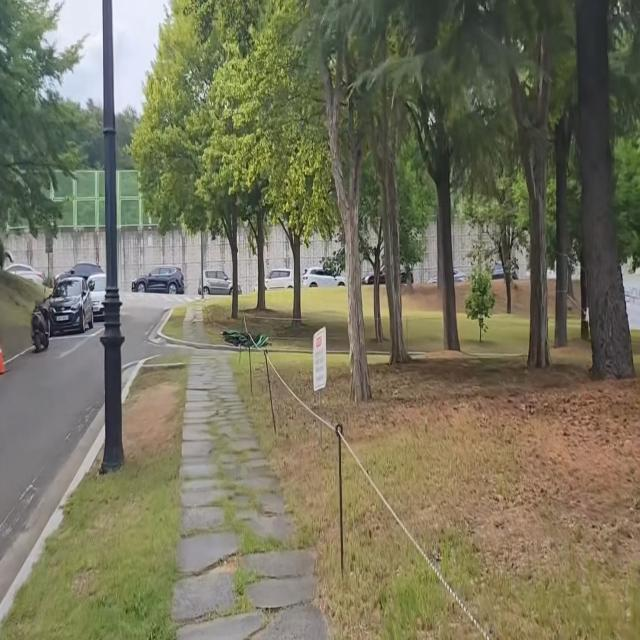obstacle: (102, 0, 127, 470), (30, 267, 105, 355)
sidewalk: (185, 298, 355, 640)
